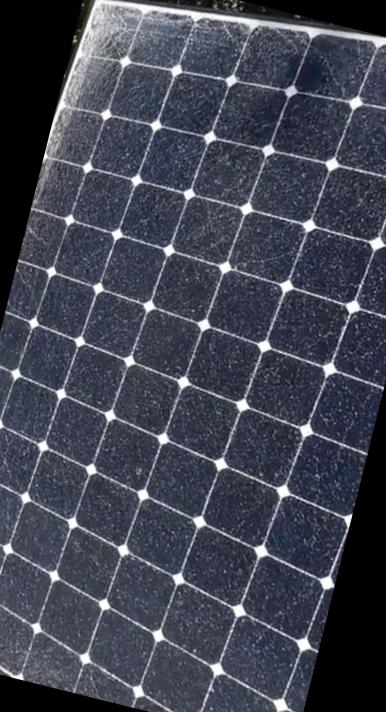Crack: (50, 0, 164, 179)
